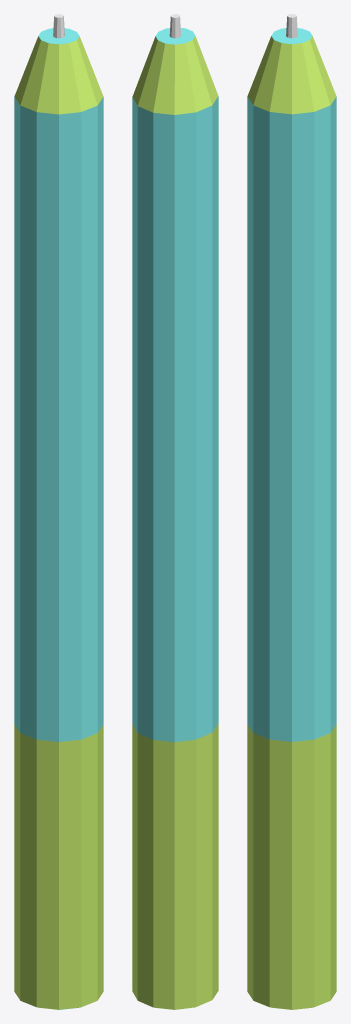
The model's file is pen.obj.
3 renders of one model, left to right at view 1: azimuth 90°, elevation 25°; view 2: azimuth 150°, elevation 25°; view 3: azimuth 270°, elevation 25°, orthographic.
Visible parts, largest first — view 1: pen; view 2: pen; view 3: pen.
Part boxes in pixels (x1,y1,x2,y2): pen: [14, 14, 103, 1009]; pen: [132, 14, 218, 1009]; pen: [247, 14, 336, 1009].
Size of the model in its own units: 1.01 by 12.85 by 1.06.
